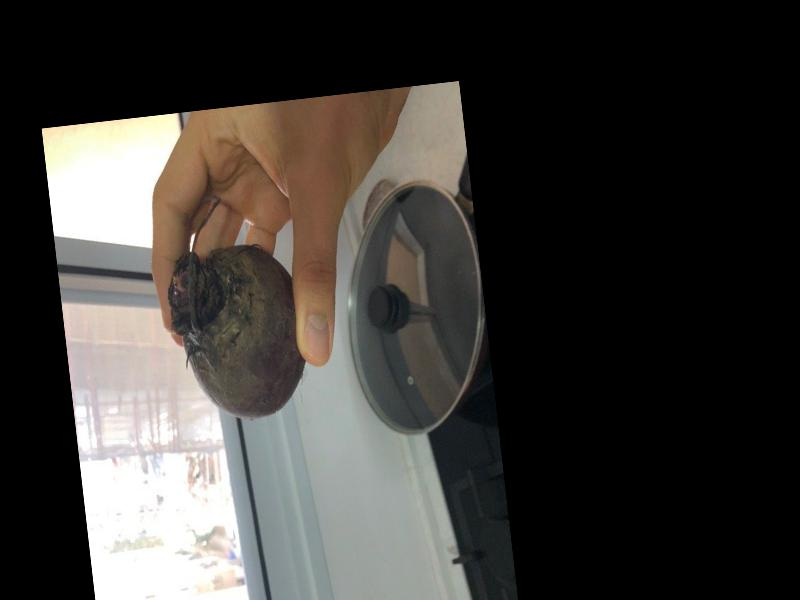Beet: (156, 188, 312, 427)
